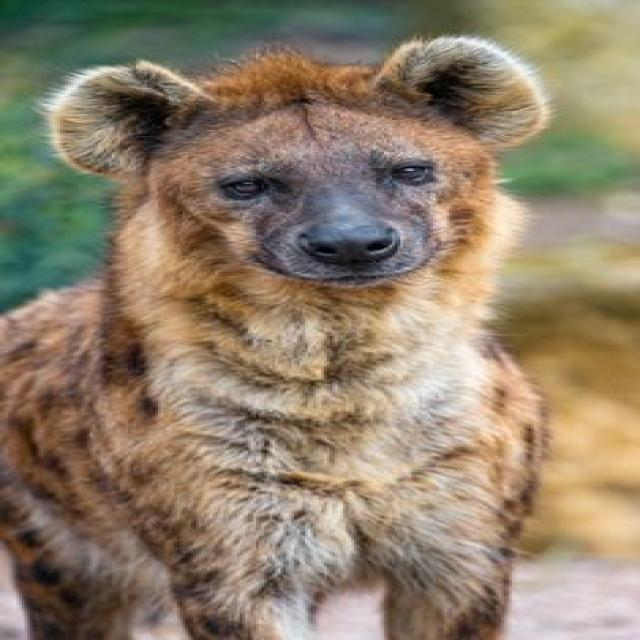Carnivorous: (0, 35, 553, 640)
